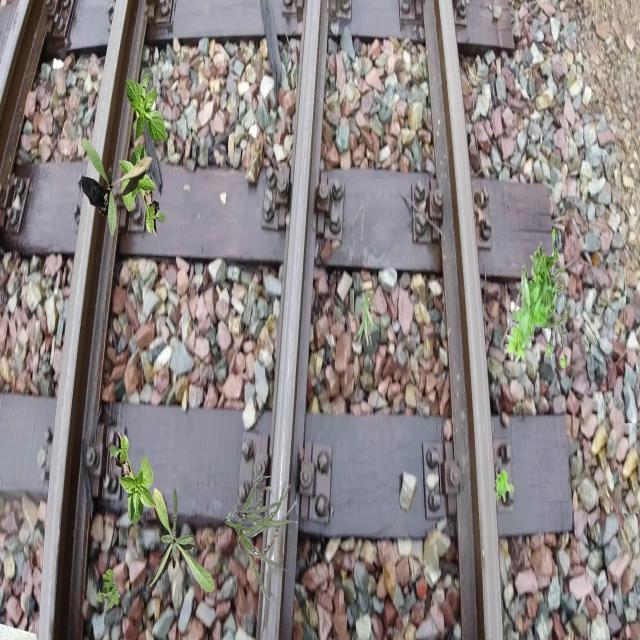Plant: (504, 228, 568, 372), (225, 476, 298, 600), (144, 487, 216, 595), (81, 138, 152, 238), (118, 142, 166, 237), (109, 432, 157, 527), (126, 73, 168, 144), (352, 291, 378, 348), (97, 568, 121, 609), (494, 470, 514, 503)
